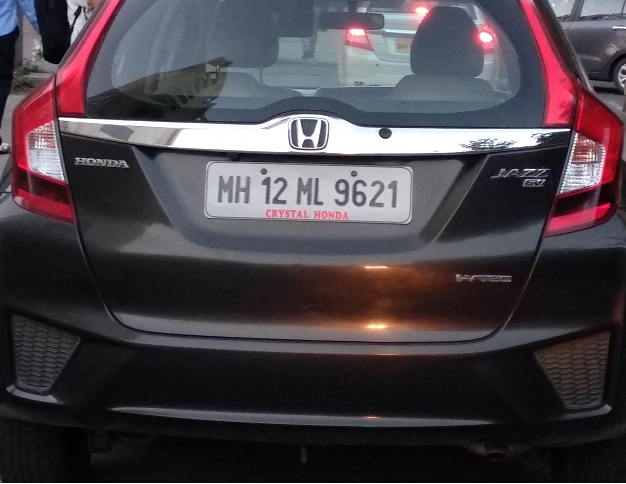licenseplate: (199, 156, 414, 228)
